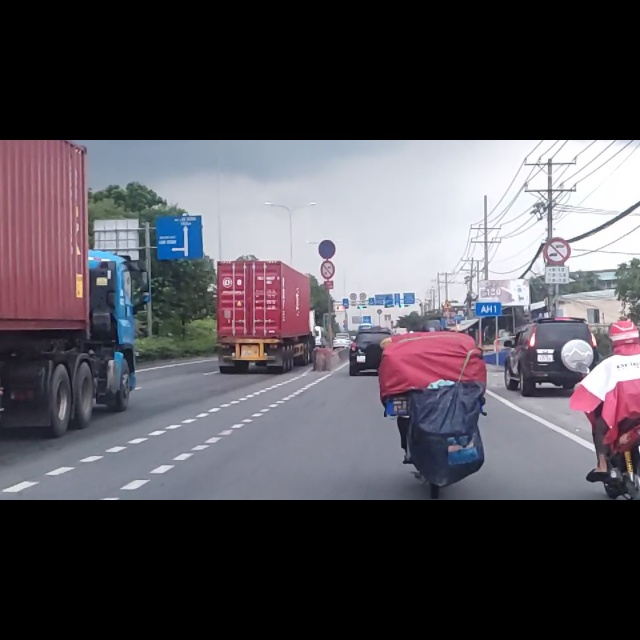bien_hieu_lenh: (544, 175, 571, 222), (317, 177, 337, 211), (321, 213, 335, 248)
